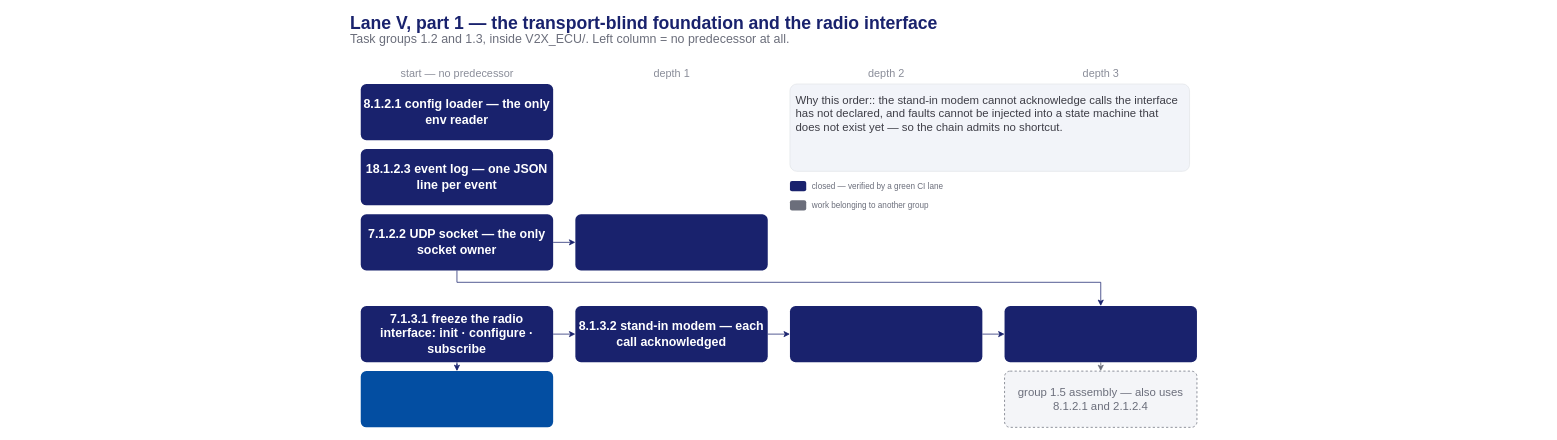
Some shapes in this 1557 by 440 pixel diagram are drawn without their labels. The box of each missing label's shape, as (x1, y1, x2, y2) in pixels:
2.1.2.4 sender to the ADA node, one message each: (575, 214, 767, 270)
7.1.3.4 the interface implemented, receiving on the port: (1004, 306, 1197, 362)
7.1.3.6 porting notes for a real modem (doc): (360, 371, 553, 427)
8.1.3.3 fault injection and the defined recoveries: (790, 306, 982, 362)
